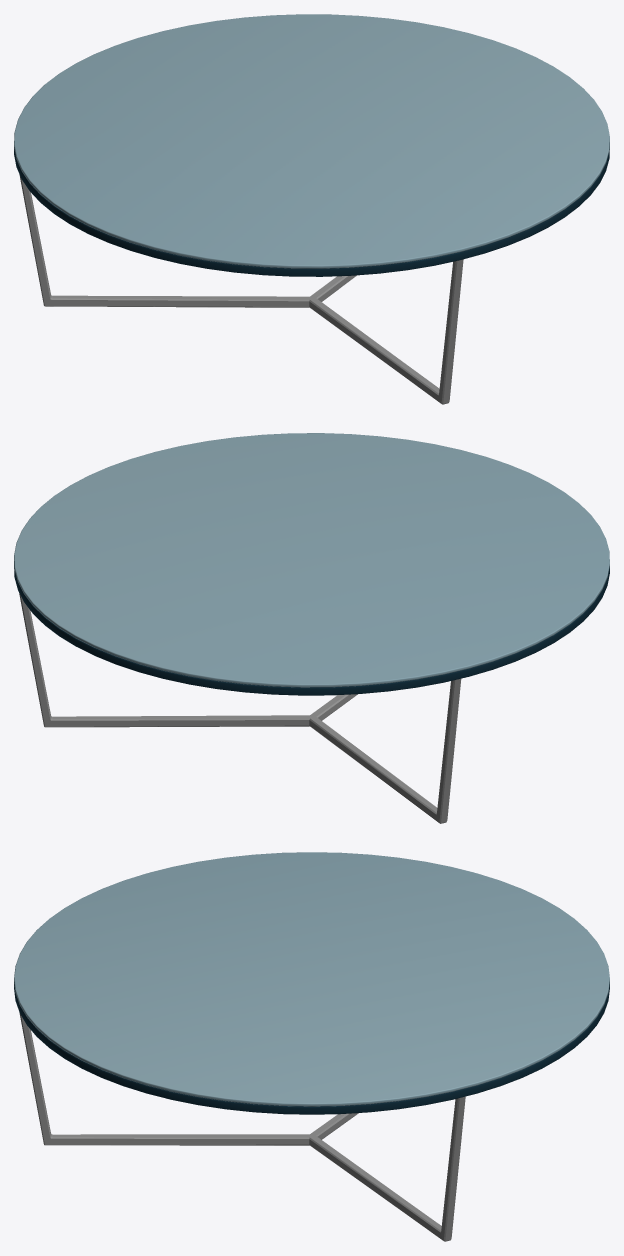
The model's file is Coffeetable.fbx.
The picture shows the model from 3 angles, top to bottom: view 1: azimuth 30°, elevation 25°; view 2: azimuth 150°, elevation 25°; view 3: azimuth 270°, elevation 25°; orthographic projection.
Parts seen in each view (by area): view 1: Coffeetable; view 2: Coffeetable; view 3: Coffeetable.
Boxes of the visible parts, left/top/right/bottom form: Coffeetable: left=14, top=14, right=609, bottom=404; Coffeetable: left=14, top=433, right=609, bottom=823; Coffeetable: left=14, top=852, right=609, bottom=1241.
Bounding box in the file's own units: 110 × 33.88 × 110.
1 material, 1 textured.
